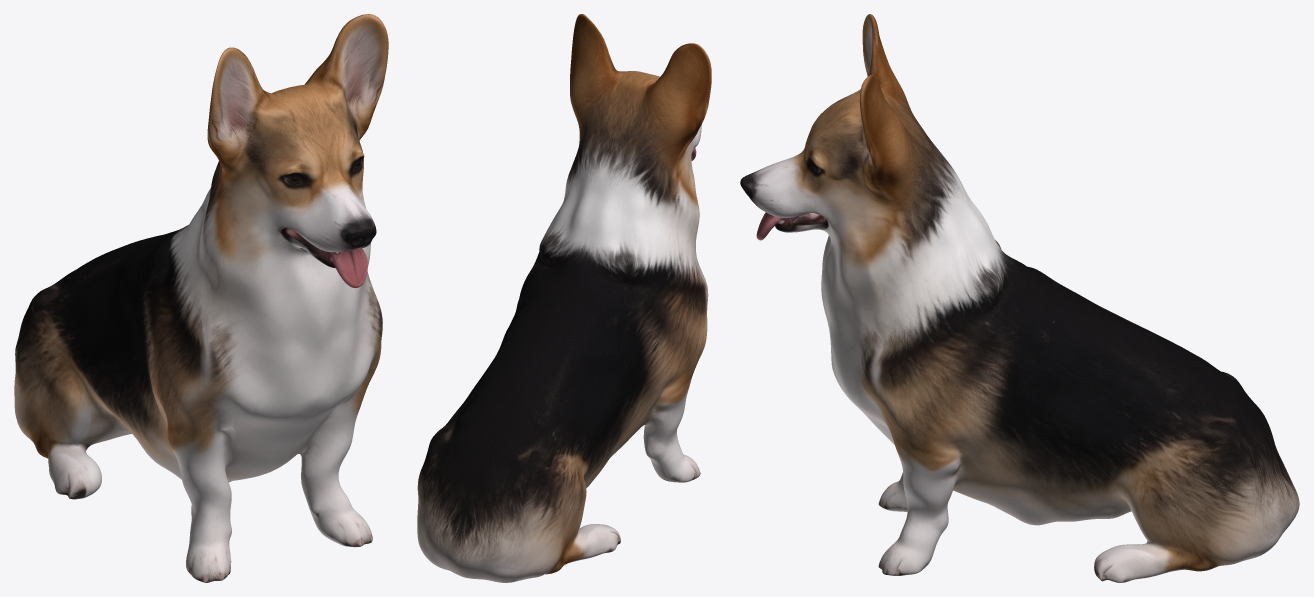
The model's file is corgi.glb.
3 views of the same model, side by side, from view 1: azimuth 30°, elevation 25°; view 2: azimuth 150°, elevation 25°; view 3: azimuth 270°, elevation 25° (orthographic). The views are drawn at different scales.
Bounding box in the file's own units: 0.7458 × 1.86 × 1.9.
1 material, 1 textured.
